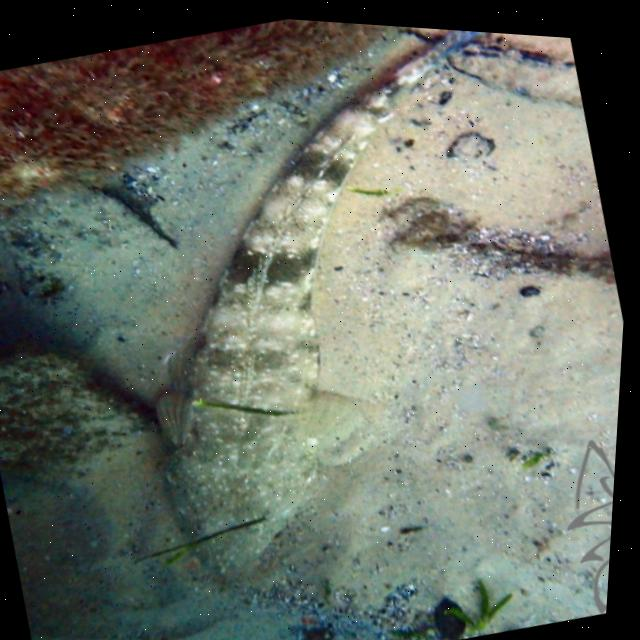Flathead: (32, 3, 640, 630)
